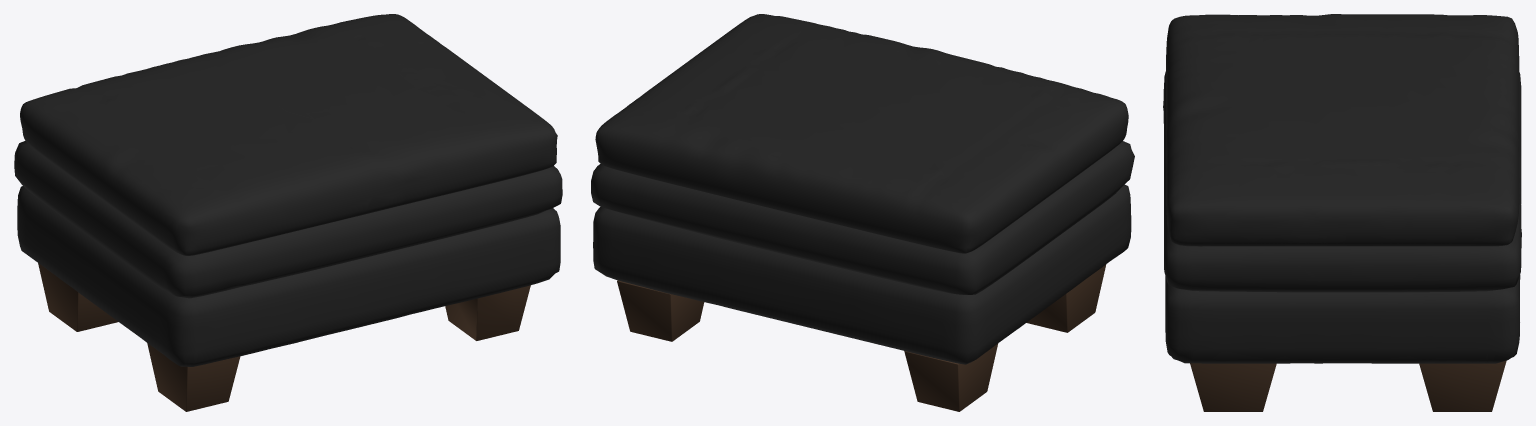
File: ottoman.glb
3 views of the same model, side by side, from view 1: azimuth 30°, elevation 25°; view 2: azimuth 150°, elevation 25°; view 3: azimuth 270°, elevation 25° (orthographic). The views are drawn at different scales.
Parts seen in each view (by area): view 1: Ottoman_Piece_low_001_Material_006_0, Ottoman_Piece_low_001_Wood_0; view 2: Ottoman_Piece_low_001_Material_006_0, Ottoman_Piece_low_001_Wood_0; view 3: Ottoman_Piece_low_001_Material_006_0, Ottoman_Piece_low_001_Wood_0.
Boxes of the visible parts, x1,y1,x2,y2 form: Ottoman_Piece_low_001_Material_006_0: (14, 14, 562, 366); Ottoman_Piece_low_001_Wood_0: (38, 263, 530, 411); Ottoman_Piece_low_001_Material_006_0: (591, 14, 1134, 364); Ottoman_Piece_low_001_Wood_0: (617, 264, 1106, 411); Ottoman_Piece_low_001_Material_006_0: (1163, 14, 1521, 363); Ottoman_Piece_low_001_Wood_0: (1190, 360, 1506, 411).
Bounding box in the file's own units: 0.7985 × 0.43 × 0.6044.
